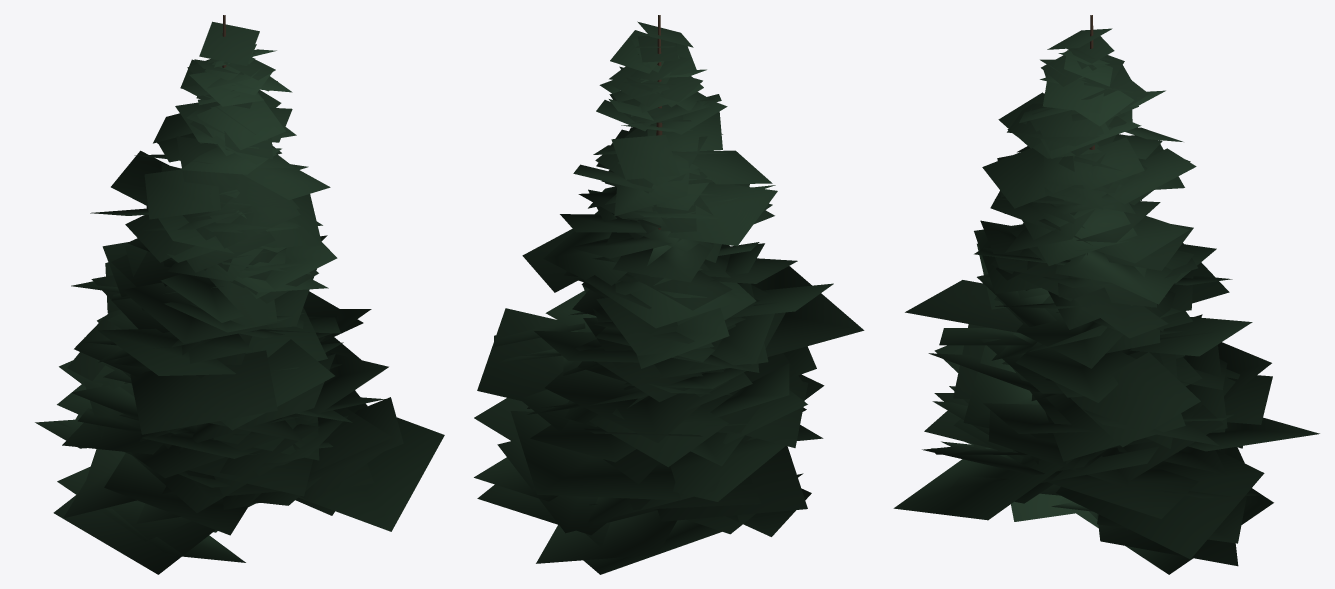
Rendered from SM_Swierk_2.glb.
3 views of the same model, side by side, from view 1: azimuth 30°, elevation 25°; view 2: azimuth 150°, elevation 25°; view 3: azimuth 270°, elevation 25° (orthographic). The views are drawn at different scales.
Visible parts, largest first — view 1: SM_Swierk_2; view 2: SM_Swierk_2; view 3: SM_Swierk_2.
Part boxes in pixels (x1,y1,x2,y2): SM_Swierk_2: (35, 15, 444, 574); SM_Swierk_2: (474, 15, 864, 574); SM_Swierk_2: (893, 15, 1319, 574).
Size of the model in its own units: 13.44 by 19.72 by 14.4.
